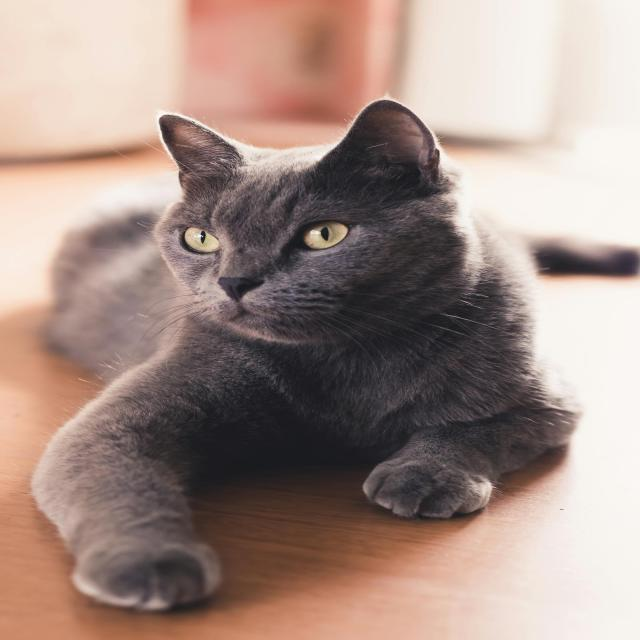Cat: (28, 96, 628, 612)
